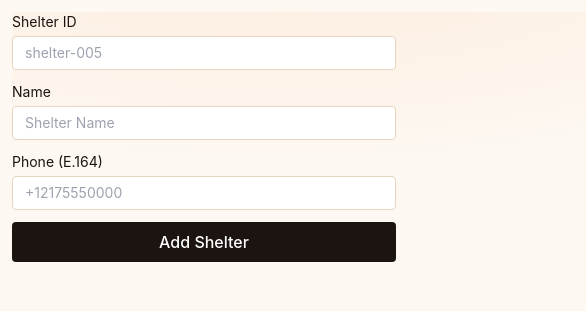
Test case: AddShelterForm › shows "Failed to add shelter" when API returns non-ok with no error field
This screenshot has width=586, height=311.
Type "s1" into the field with placeholder "shelter-005". click: (204, 53)
box: [12,36,396,70]
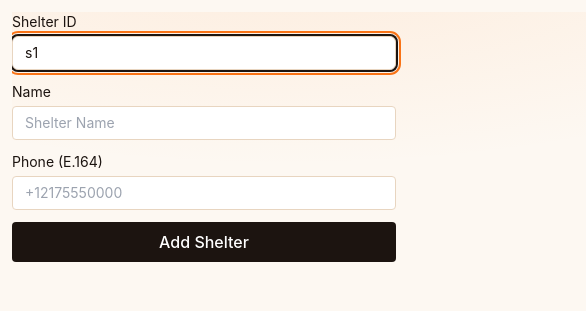
Type "Test Shelter" into the field with placeholder "Shelter Name". click: (204, 123)
box: [12,106,396,140]
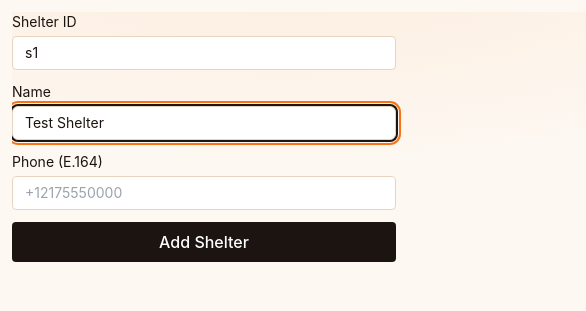
Type "+15550001111" into the field with placeholder "+12175550000". click: (204, 193)
box: [12,176,396,210]
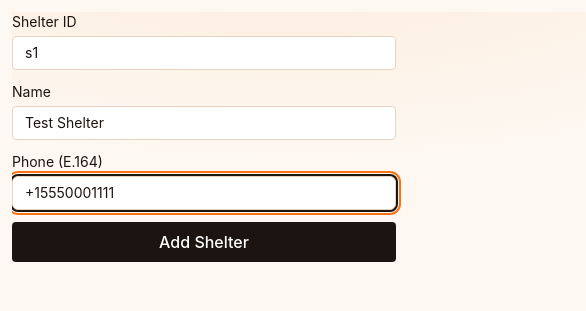
Click the button "Add Shelter". click: (204, 242)
box: [12,222,396,262]
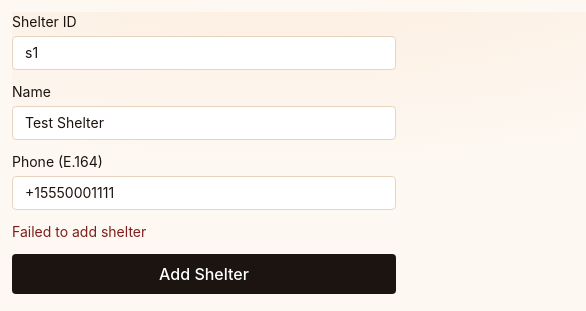
expect the message reads "Failed to add shelter": met, box [12,223,146,240]
